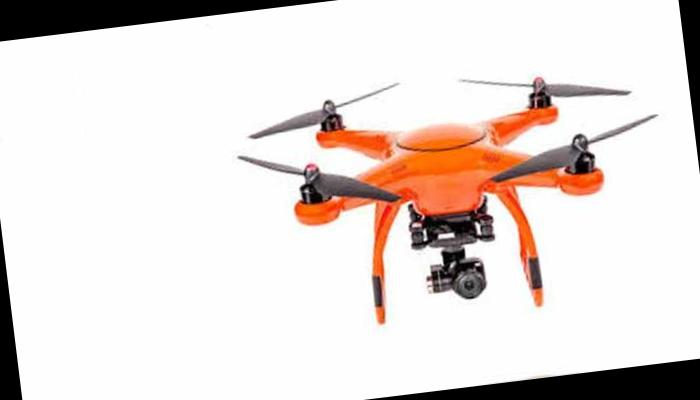drone: (212, 29, 655, 322)
